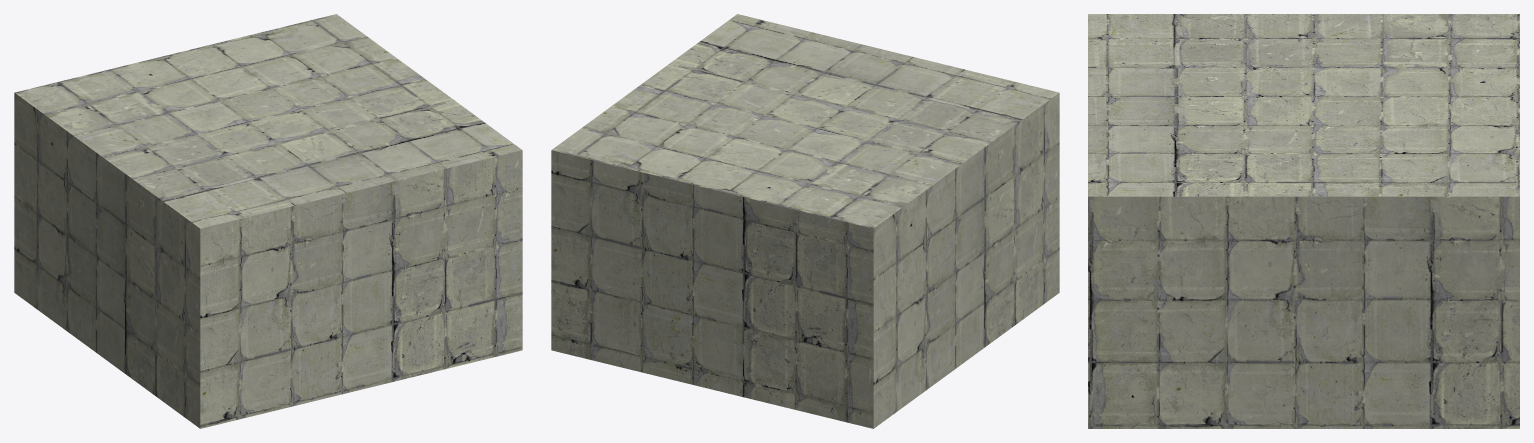
File: SM_TheSamePlace_08_Block_00.fbx
The picture shows the model from 3 angles, left to right: view 1: azimuth 30°, elevation 25°; view 2: azimuth 150°, elevation 25°; view 3: azimuth 270°, elevation 25°; orthographic projection. The views are drawn at different scales.
Visible parts, largest first — view 1: SM_TheSamePlace_08_Block_00; view 2: SM_TheSamePlace_08_Block_00; view 3: SM_TheSamePlace_08_Block_00.
Part boxes in pixels (left/top/right/bottom): SM_TheSamePlace_08_Block_00: left=14, top=14, right=522, bottom=428; SM_TheSamePlace_08_Block_00: left=551, top=14, right=1059, bottom=428; SM_TheSamePlace_08_Block_00: left=1088, top=14, right=1519, bottom=428.
Bounding box in the file's own units: 506 × 300 × 506.
